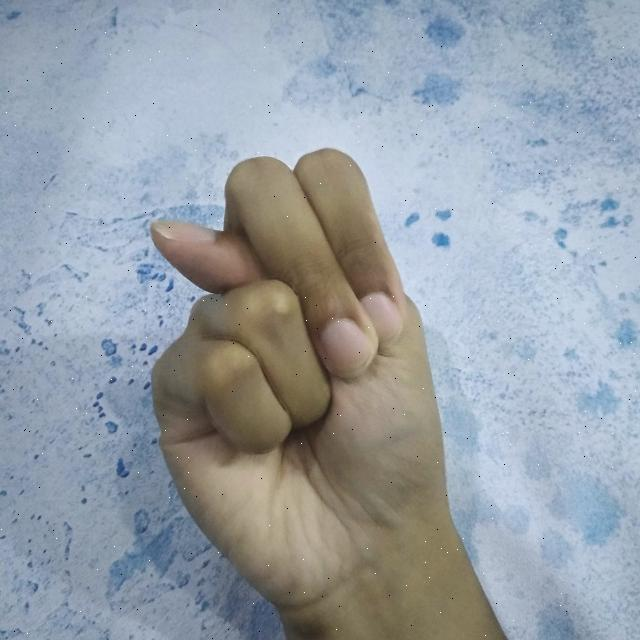N: (140, 137, 504, 640)
